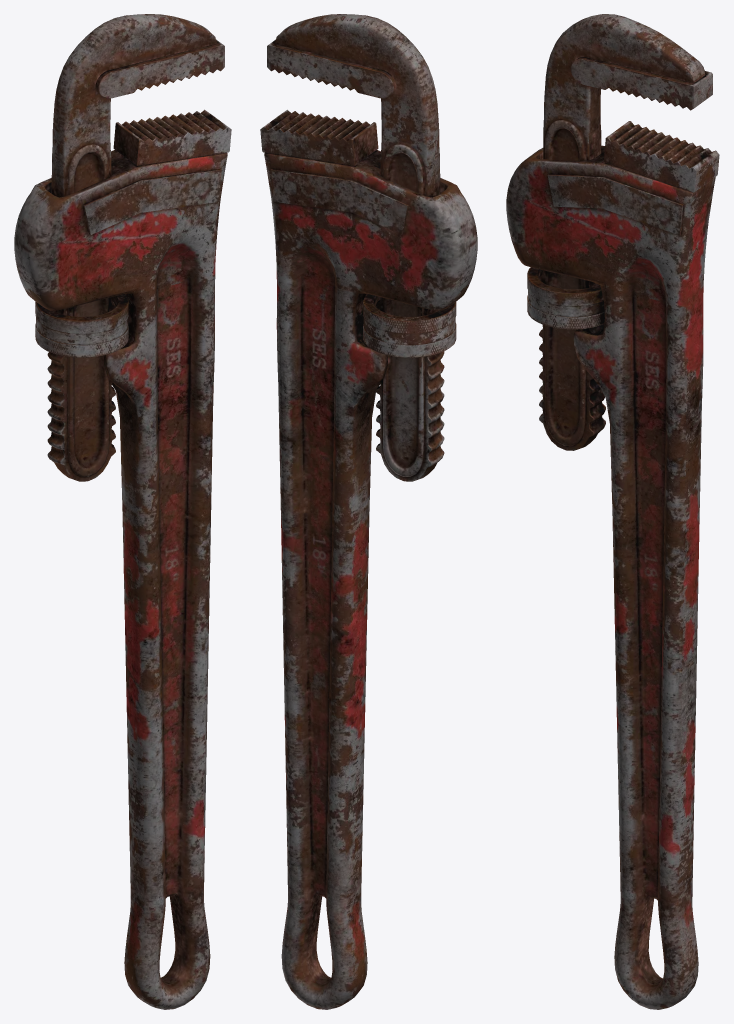
The model's file is pipe_wrench.glb.
3 renders of one model, left to right at view 1: azimuth 30°, elevation 25°; view 2: azimuth 150°, elevation 25°; view 3: azimuth 330°, elevation 25°, orthographic.
Visible parts, largest first — view 1: pipe_wrench; view 2: pipe_wrench; view 3: pipe_wrench.
Part boxes in pixels (x1,y1,x2,y2): pipe_wrench: (14, 14, 231, 1009); pipe_wrench: (260, 14, 477, 1009); pipe_wrench: (506, 14, 719, 1009).
Size of the model in its own units: 0.084 by 0.4047 by 0.0343.
1 material, 1 textured.
